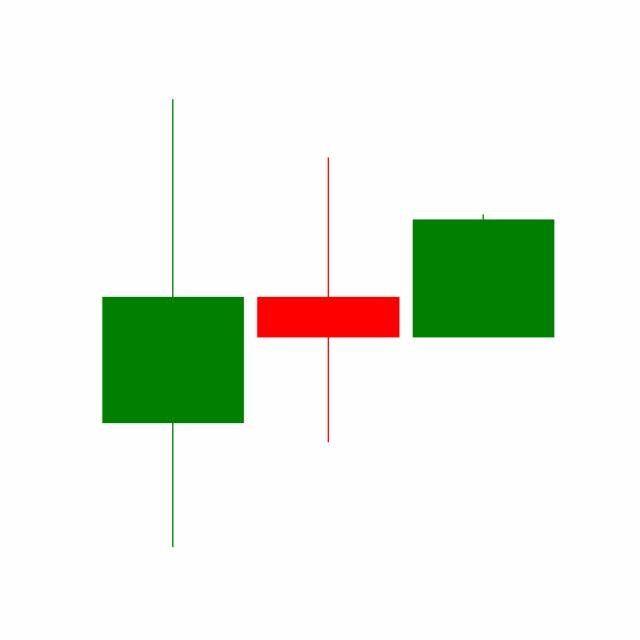Marubozu: (405, 212, 561, 338)
